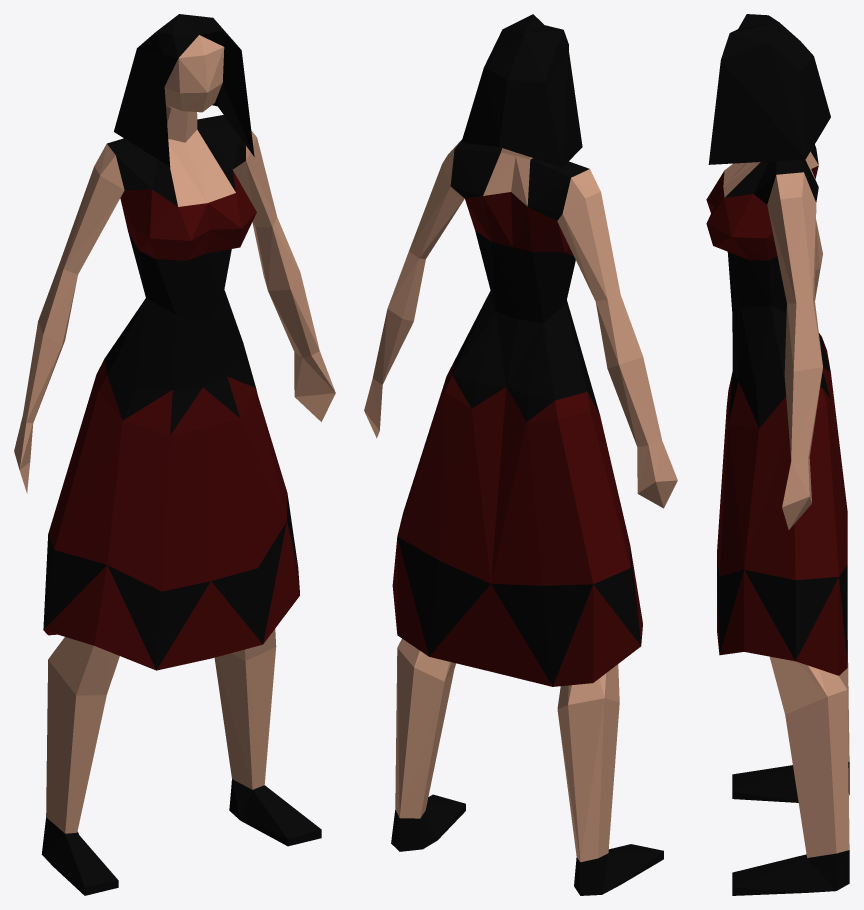
Rendered from Human_Women.fbx.
3 renders of one model, left to right at view 1: azimuth 30°, elevation 25°; view 2: azimuth 150°, elevation 25°; view 3: azimuth 270°, elevation 25°, orthographic. The views are drawn at different scales.
Parts seen in each view (by area): view 1: Human_Women; view 2: Human_Women; view 3: Human_Women.
Part boxes in pixels (bbox=[...]): Human_Women: bbox=[14, 14, 335, 895]; Human_Women: bbox=[364, 14, 677, 895]; Human_Women: bbox=[706, 14, 849, 895].
Bounding box in the file's own units: 85.59 × 216 × 34.3.
